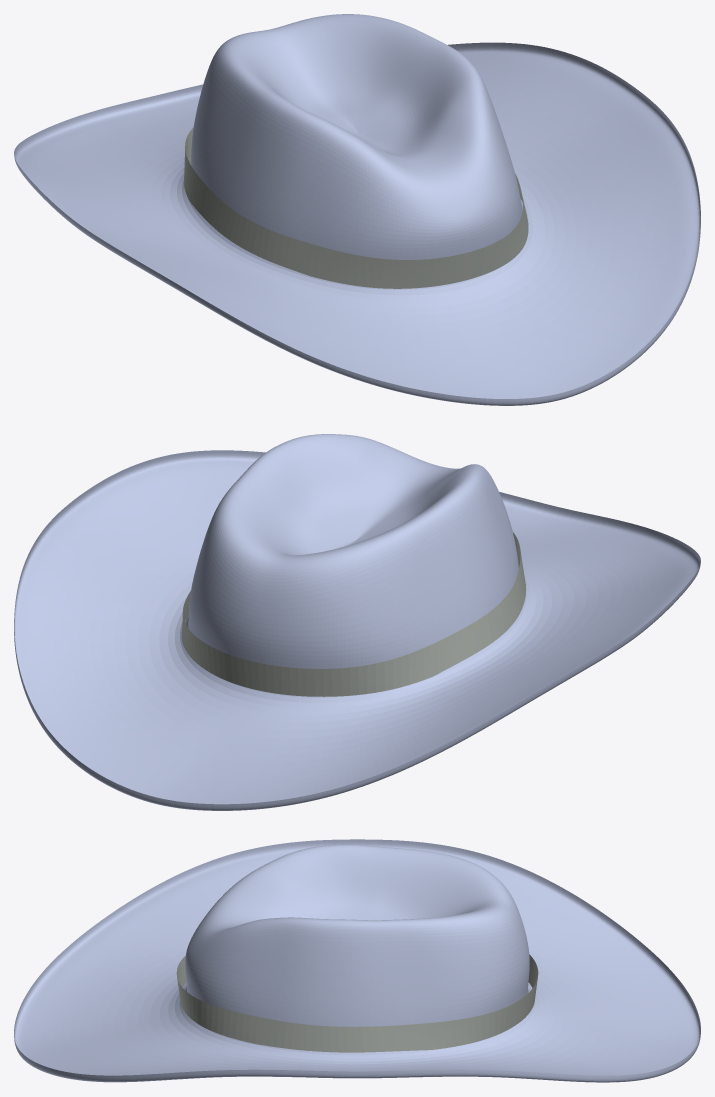
Rendered from hatfina1l.glb.
The picture shows the model from 3 angles, top to bottom: view 1: azimuth 30°, elevation 25°; view 2: azimuth 150°, elevation 25°; view 3: azimuth 270°, elevation 25°; orthographic projection. The views are drawn at different scales.
Parts seen in each view (by area): view 1: Sphere, Sphere.005; view 2: Sphere, Sphere.005; view 3: Sphere, Sphere.005.
Part boxes in pixels (x1,y1,x2,y2): Sphere: (14,14,700,405); Sphere.005: (184,127,528,288); Sphere: (14,434,700,810); Sphere.005: (181,532,526,696); Sphere: (14,839,700,1082); Sphere.005: (176,954,538,1052).
Bounding box in the file's own units: 3.09 × 0.9799 × 3.86.
